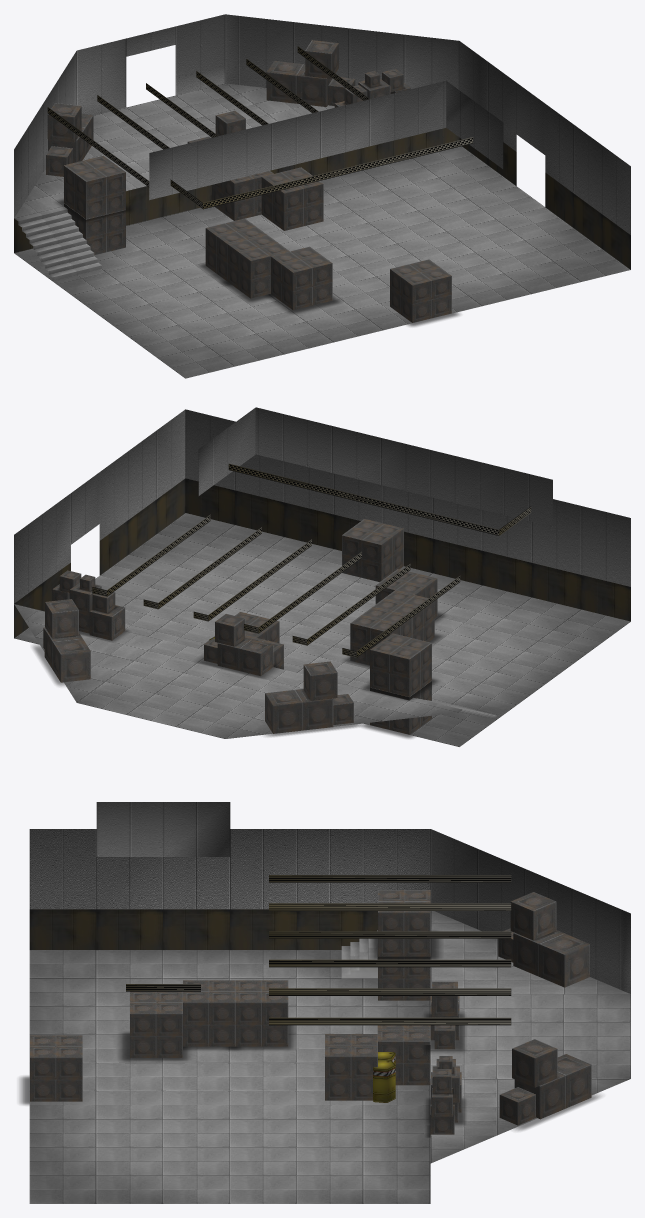
File: room_2.glb
3 views of the same model, one above another, from view 1: azimuth 30°, elevation 25°; view 2: azimuth 150°, elevation 25°; view 3: azimuth 270°, elevation 25° (orthographic). The views are drawn at different scales.
Parts seen in each view (by area): view 1: floor, walls, TopCeiling, CBMetalBoxSides (×8), floor2, CBMetalBoxTop (×6), platform_wall, stairs, EMetalBox3 (×2), EMetalBox6 (×3), Lights6, LongLights_Lights6 (+1 smaller); view 2: walls, floor, floor2, TopCeiling, CBMetalBoxSides (×5), EMetalBox3 (×3), CBMetalBoxTop (×5), EMetalBox6 (×3), Lights6, F1MetalBox5, LongLights_Lights1, Lights1 (+6 smaller); view 3: floor, walls, floor2, CBMetalBoxSides (×8), CBMetalBoxTop (×7), TopCeiling, EMetalBox3 (×2), EMetalBox6 (×3), LongLights_Lights1, Lights2, LongLights_Lights2, LongLights_Lights4 (+7 smaller).
Boxes of the visible parts, bbox=[...] form: floor: bbox=[14, 146, 630, 378]; walls: bbox=[14, 14, 630, 269]; TopCeiling: bbox=[149, 80, 503, 199]; CBMetalBoxSides (×8): bbox=[64, 166, 451, 322]; floor2: bbox=[14, 83, 334, 218]; CBMetalBoxTop (×6): bbox=[64, 155, 451, 285]; platform_wall: bbox=[14, 128, 459, 252]; stairs: bbox=[15, 206, 101, 280]; EMetalBox3 (×2): bbox=[48, 61, 332, 162]; EMetalBox6 (×3): bbox=[47, 40, 338, 142]; Lights6: bbox=[170, 137, 473, 209]; LongLights_Lights6: bbox=[47, 107, 149, 187]; walls: bbox=[14, 409, 630, 637]; floor: bbox=[14, 513, 630, 746]; floor2: bbox=[14, 604, 458, 738]; TopCeiling: bbox=[198, 407, 552, 526]; CBMetalBoxSides (×5): bbox=[342, 529, 434, 734]; EMetalBox3 (×3): bbox=[44, 629, 333, 733]; CBMetalBoxTop (×5): bbox=[342, 519, 437, 659]; EMetalBox6 (×3): bbox=[45, 599, 337, 700]; Lights6: bbox=[228, 463, 531, 535]; F1MetalBox5: bbox=[89, 605, 125, 640]; LongLights_Lights1: bbox=[193, 539, 311, 621]; Lights1: bbox=[143, 527, 261, 609]; floor: bbox=[29, 950, 430, 1203]; walls: bbox=[29, 829, 630, 993]; floor2: bbox=[430, 911, 630, 1163]; CBMetalBoxSides (×8): bbox=[30, 912, 430, 1101]; CBMetalBoxTop (×7): bbox=[30, 890, 430, 1057]; TopCeiling: bbox=[96, 802, 230, 856]; EMetalBox3 (×2): bbox=[513, 930, 591, 1119]; EMetalBox6 (×3): bbox=[432, 892, 557, 1087]; LongLights_Lights1: bbox=[269, 959, 511, 967]; Lights2: bbox=[269, 1017, 511, 1025]; LongLights_Lights2: bbox=[269, 931, 511, 938]; LongLights_Lights4: bbox=[269, 903, 511, 910].
Size of the model in its own units: 135 by 43.65 by 139.
15 materials, 14 textured.
